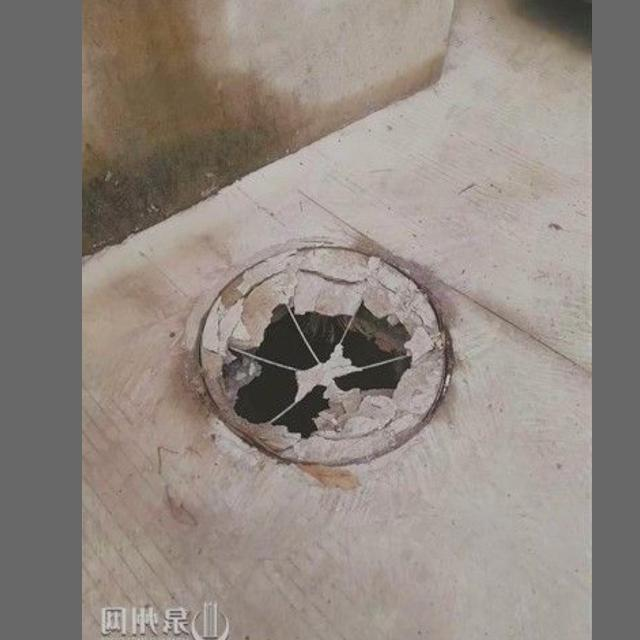broke: (168, 221, 471, 487)
